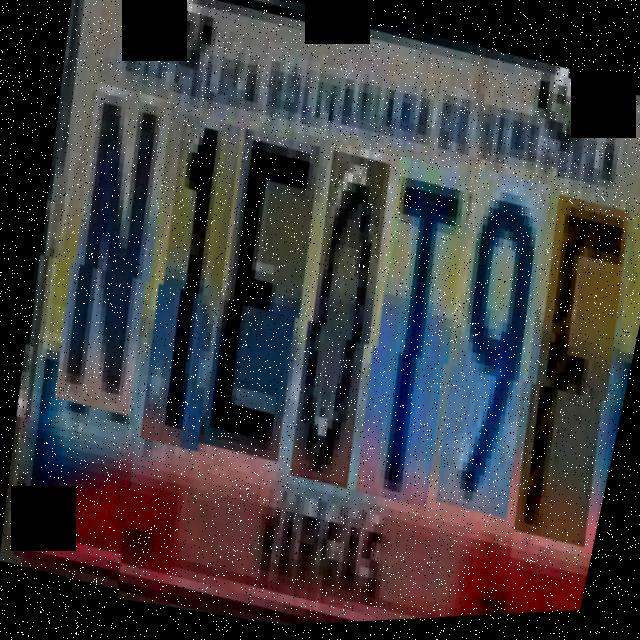1: (114, 109, 262, 453)
9: (410, 161, 574, 519)
E: (177, 123, 340, 464)
F: (488, 180, 640, 537)
N: (27, 87, 190, 428)
O: (263, 145, 411, 489)
T: (328, 151, 492, 509)
